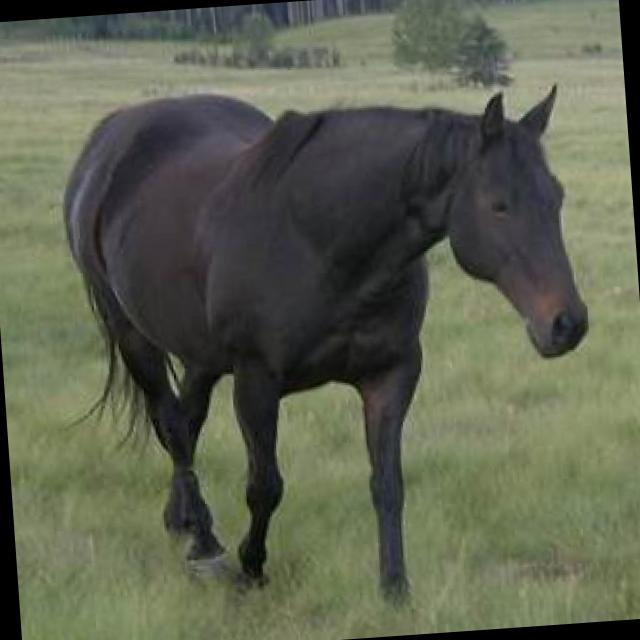horse: (56, 70, 610, 623)
